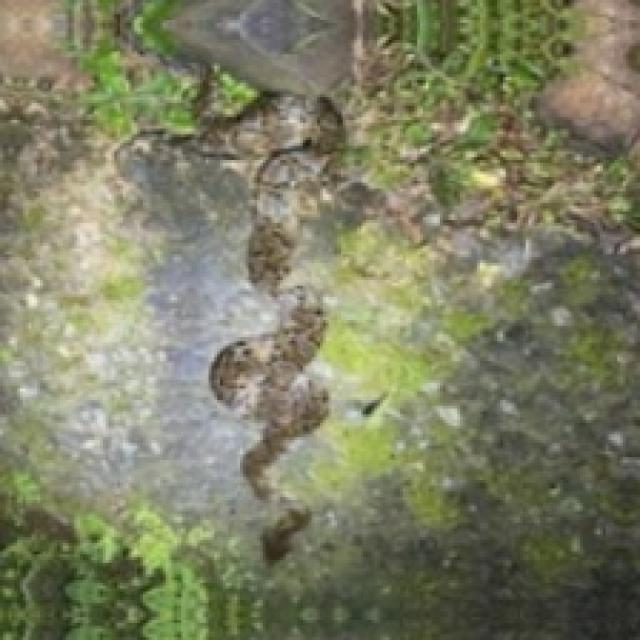reticulated python: (203, 94, 343, 560)
